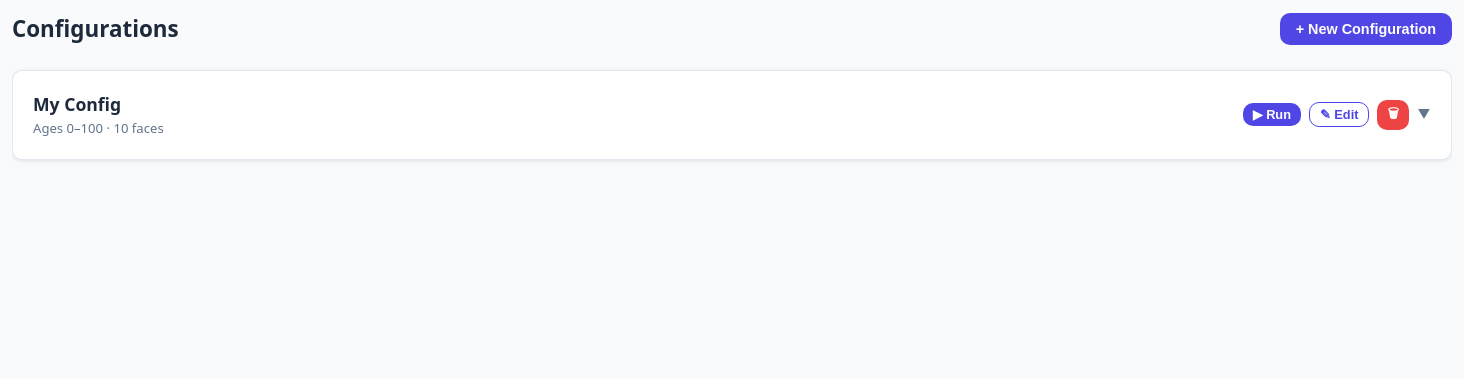
Test case: ConfigList expand/collapse › shows detail panel when card header is clicked
Click the text "My Config".
click(77, 104)  # box [33,92,121,116]
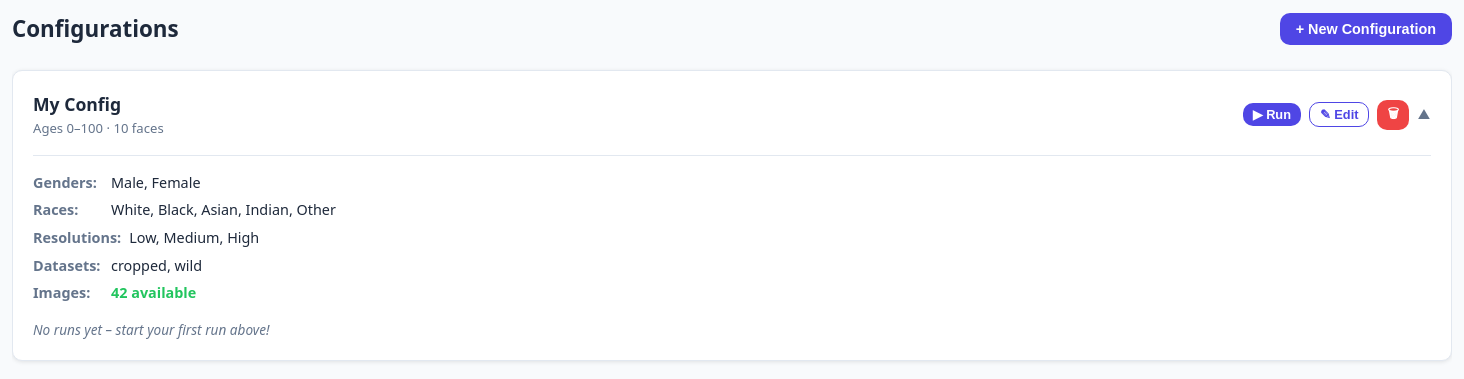
Result: the text "Genders:" is shown at [33,172,103,193]
